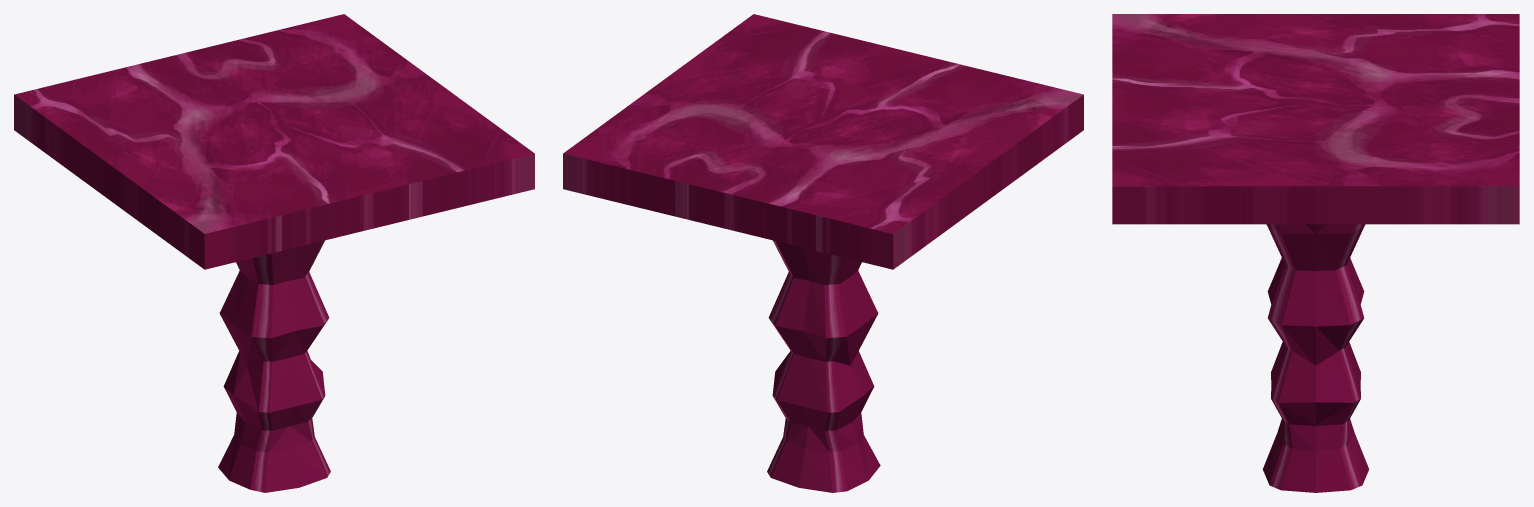
Rendered from EspacioPornoColumnaInteriorBajoNS.gltf.
The picture shows the model from 3 angles, left to right: view 1: azimuth 30°, elevation 25°; view 2: azimuth 150°, elevation 25°; view 3: azimuth 270°, elevation 25°; orthographic projection. The views are drawn at different scales.
Visible parts, largest first — view 1: Techo; view 2: Techo; view 3: Techo.
Boxes of the visible parts, x1,y1,x2,y2 form: Techo: [14, 14, 534, 492]; Techo: [563, 14, 1083, 492]; Techo: [1112, 14, 1519, 492].
Size of the model in its own units: 2 by 2 by 2.
1 material, 1 textured.
